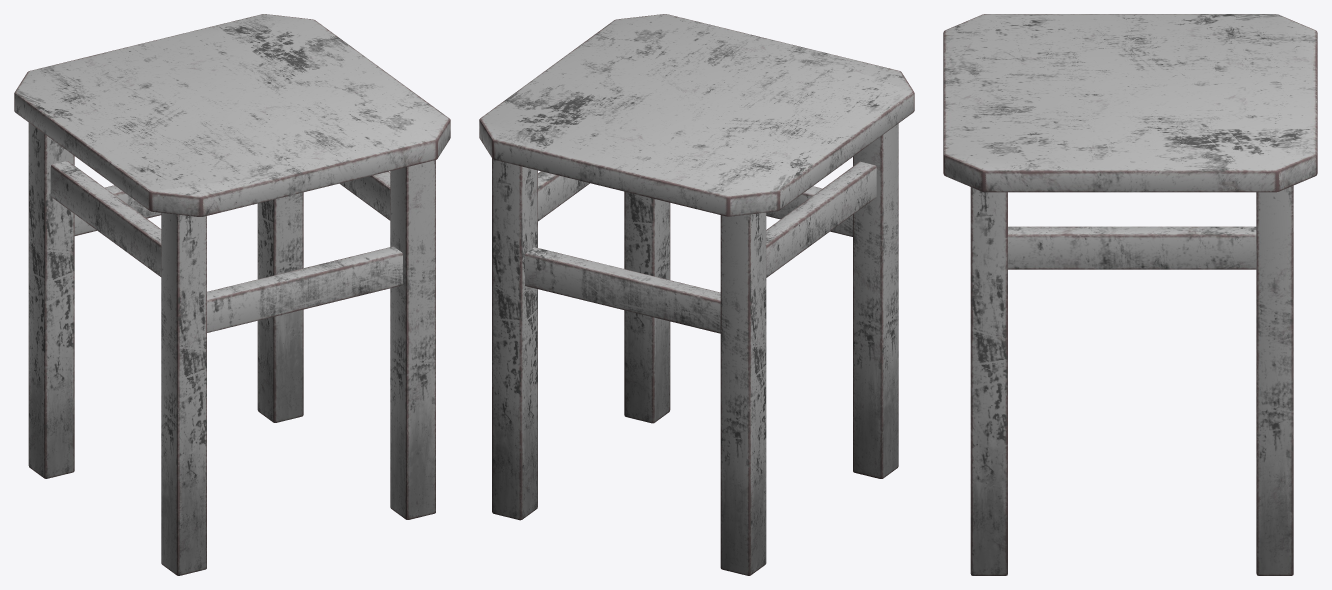
The model's file is stool0.obj.
The picture shows the model from 3 angles, left to right: view 1: azimuth 30°, elevation 25°; view 2: azimuth 150°, elevation 25°; view 3: azimuth 270°, elevation 25°; orthographic projection. The views are drawn at different scales.
Visible parts, largest first — view 1: Stool_meshId0_name; view 2: Stool_meshId0_name; view 3: Stool_meshId0_name.
Boxes of the visible parts, bbox=[...] form: Stool_meshId0_name: bbox=[14, 14, 450, 575]; Stool_meshId0_name: bbox=[479, 14, 914, 575]; Stool_meshId0_name: bbox=[943, 14, 1317, 575].
Bounding box in the file's own units: 0.46 × 0.5638 × 0.46.
